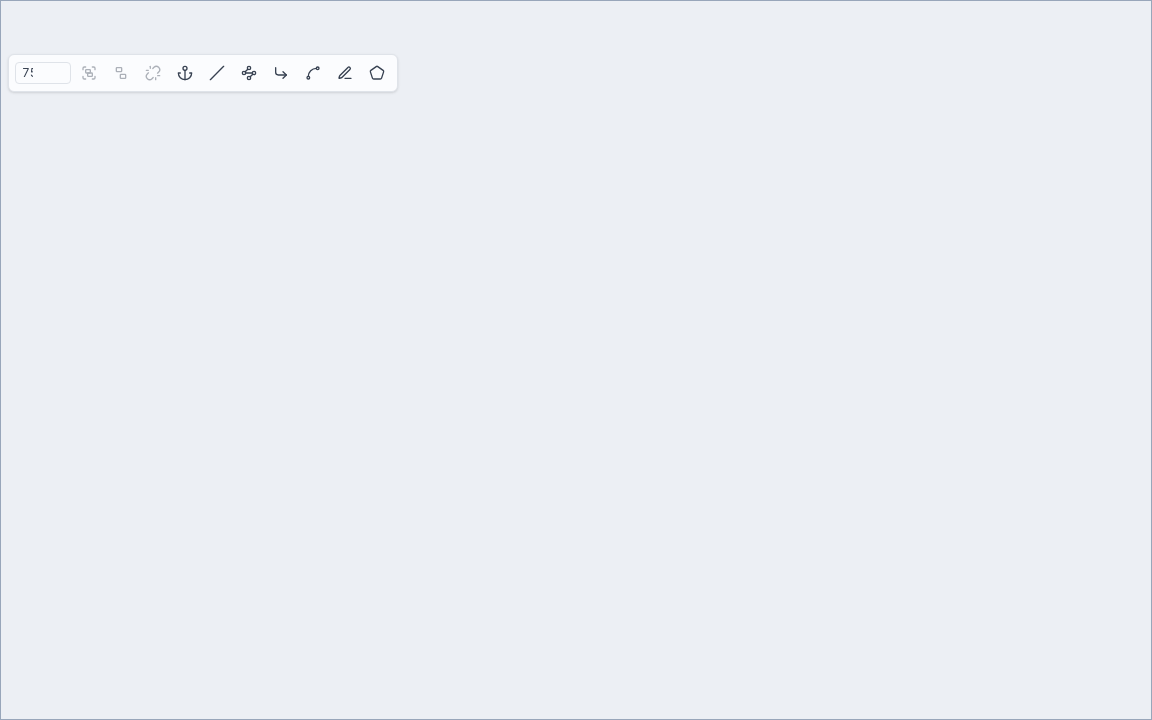
누르면 부품이 최상위로 올라온다 › 뺀 것이 선택으로 남는다 — 방금 뺀 것을 곧바로 끌 수 있어야 한다
The image size is (1152, 720).
Step 1. Press the mouse on the element with test id "canvas-edit-overlay" → (576, 360), box [0,0,1151,719]
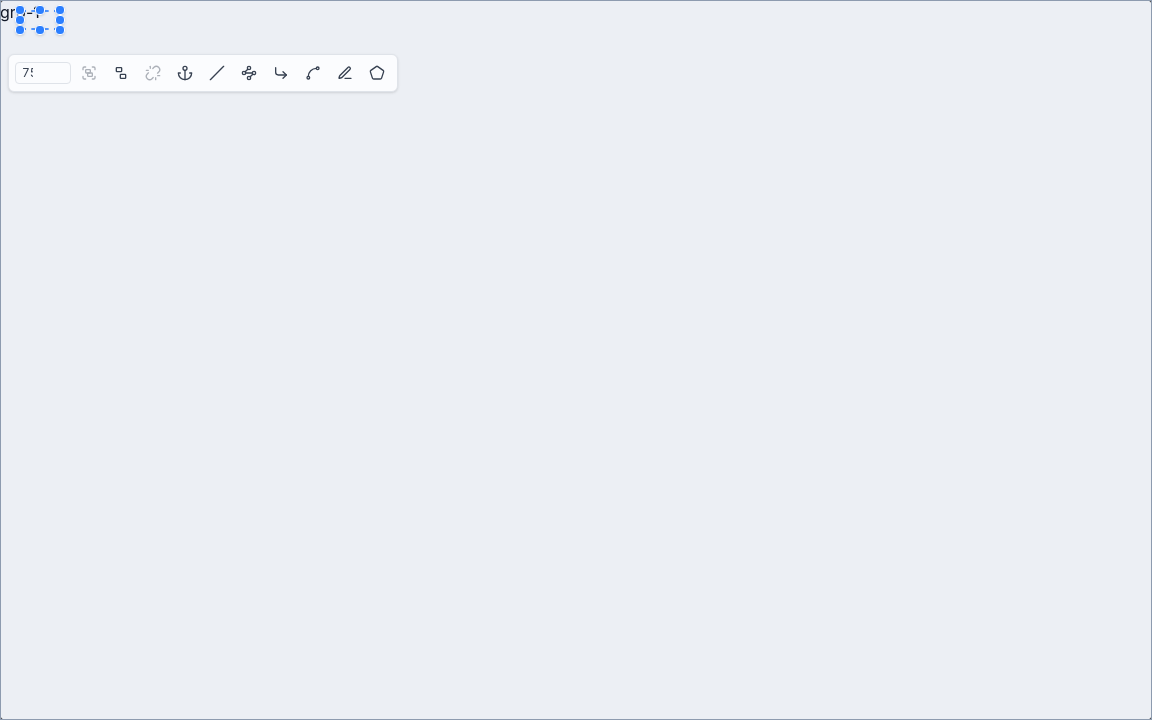
Step 2. Press the mouse on the element with test id "canvas-edit-overlay" → (576, 360), box [0,0,1151,719]
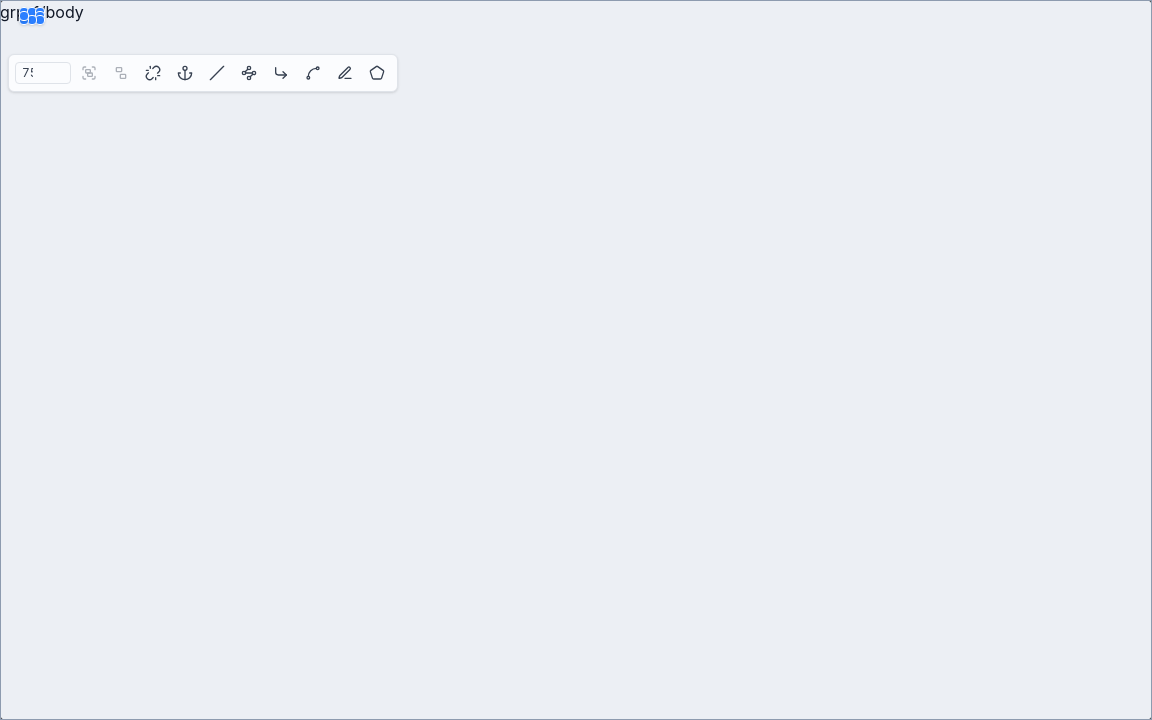
Step 3. Click the button with test id "canvas-group-detach" → (153, 73), box [139,59,167,87]
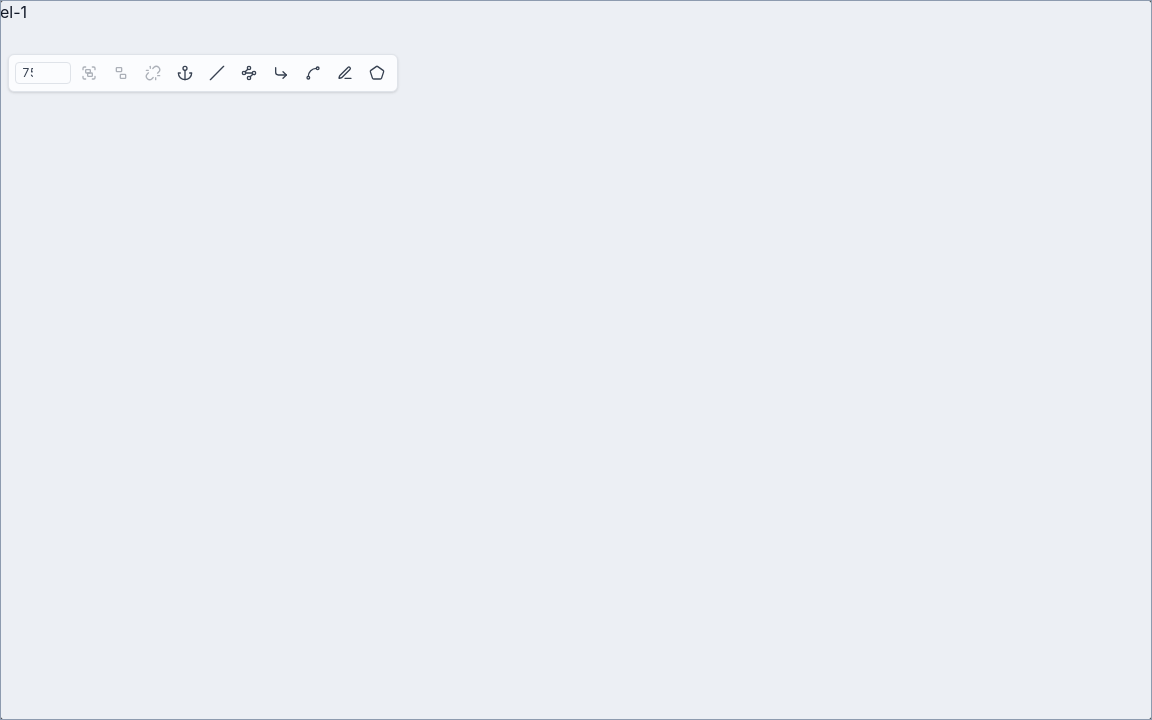
Expected: the text with test id "selection" reads "el-1", [0,2,27,22]
